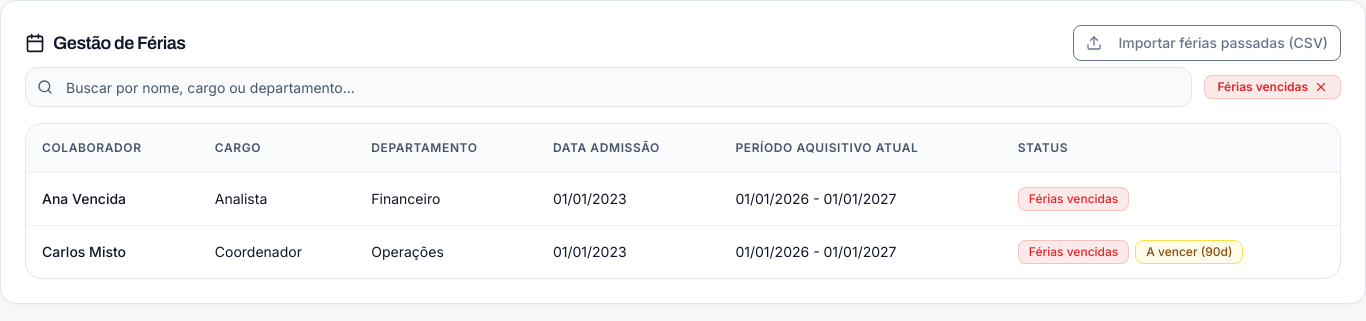
Test: ETAPA 3: ColaboradoresFeriasList — Filtro Visual, Chip, Badges e Empty State › searchTerm + filtro funcionam em interseção
Type "Carlos" into the field with placeholder "Buscar por nome, cargo ou departamento...". click: (609, 87)
box: [25,67,1192,107]
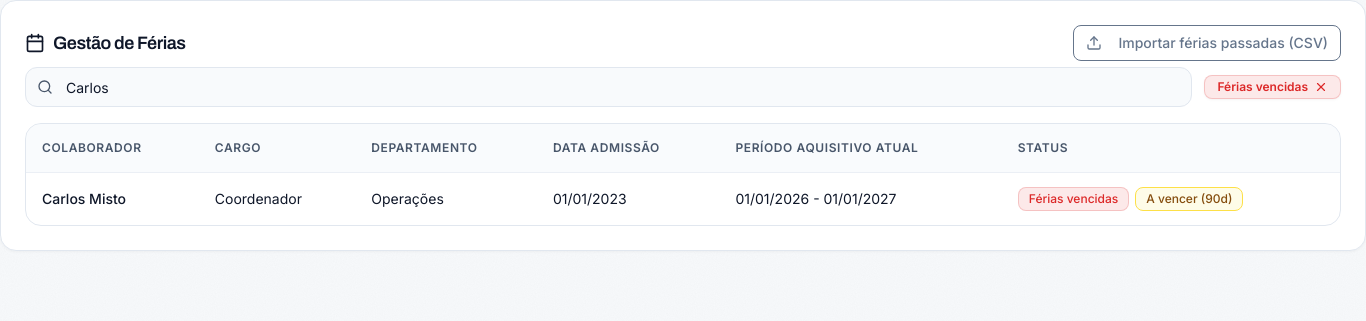
Expected: the text "Carlos Misto" is shown, [26,172,199,224]
Result: the text "Ana Vencida" is gone
